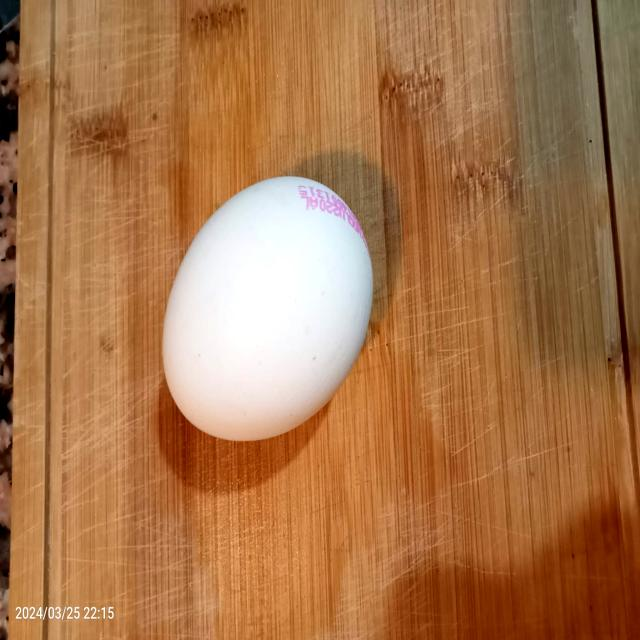egg: (144, 149, 393, 466)
